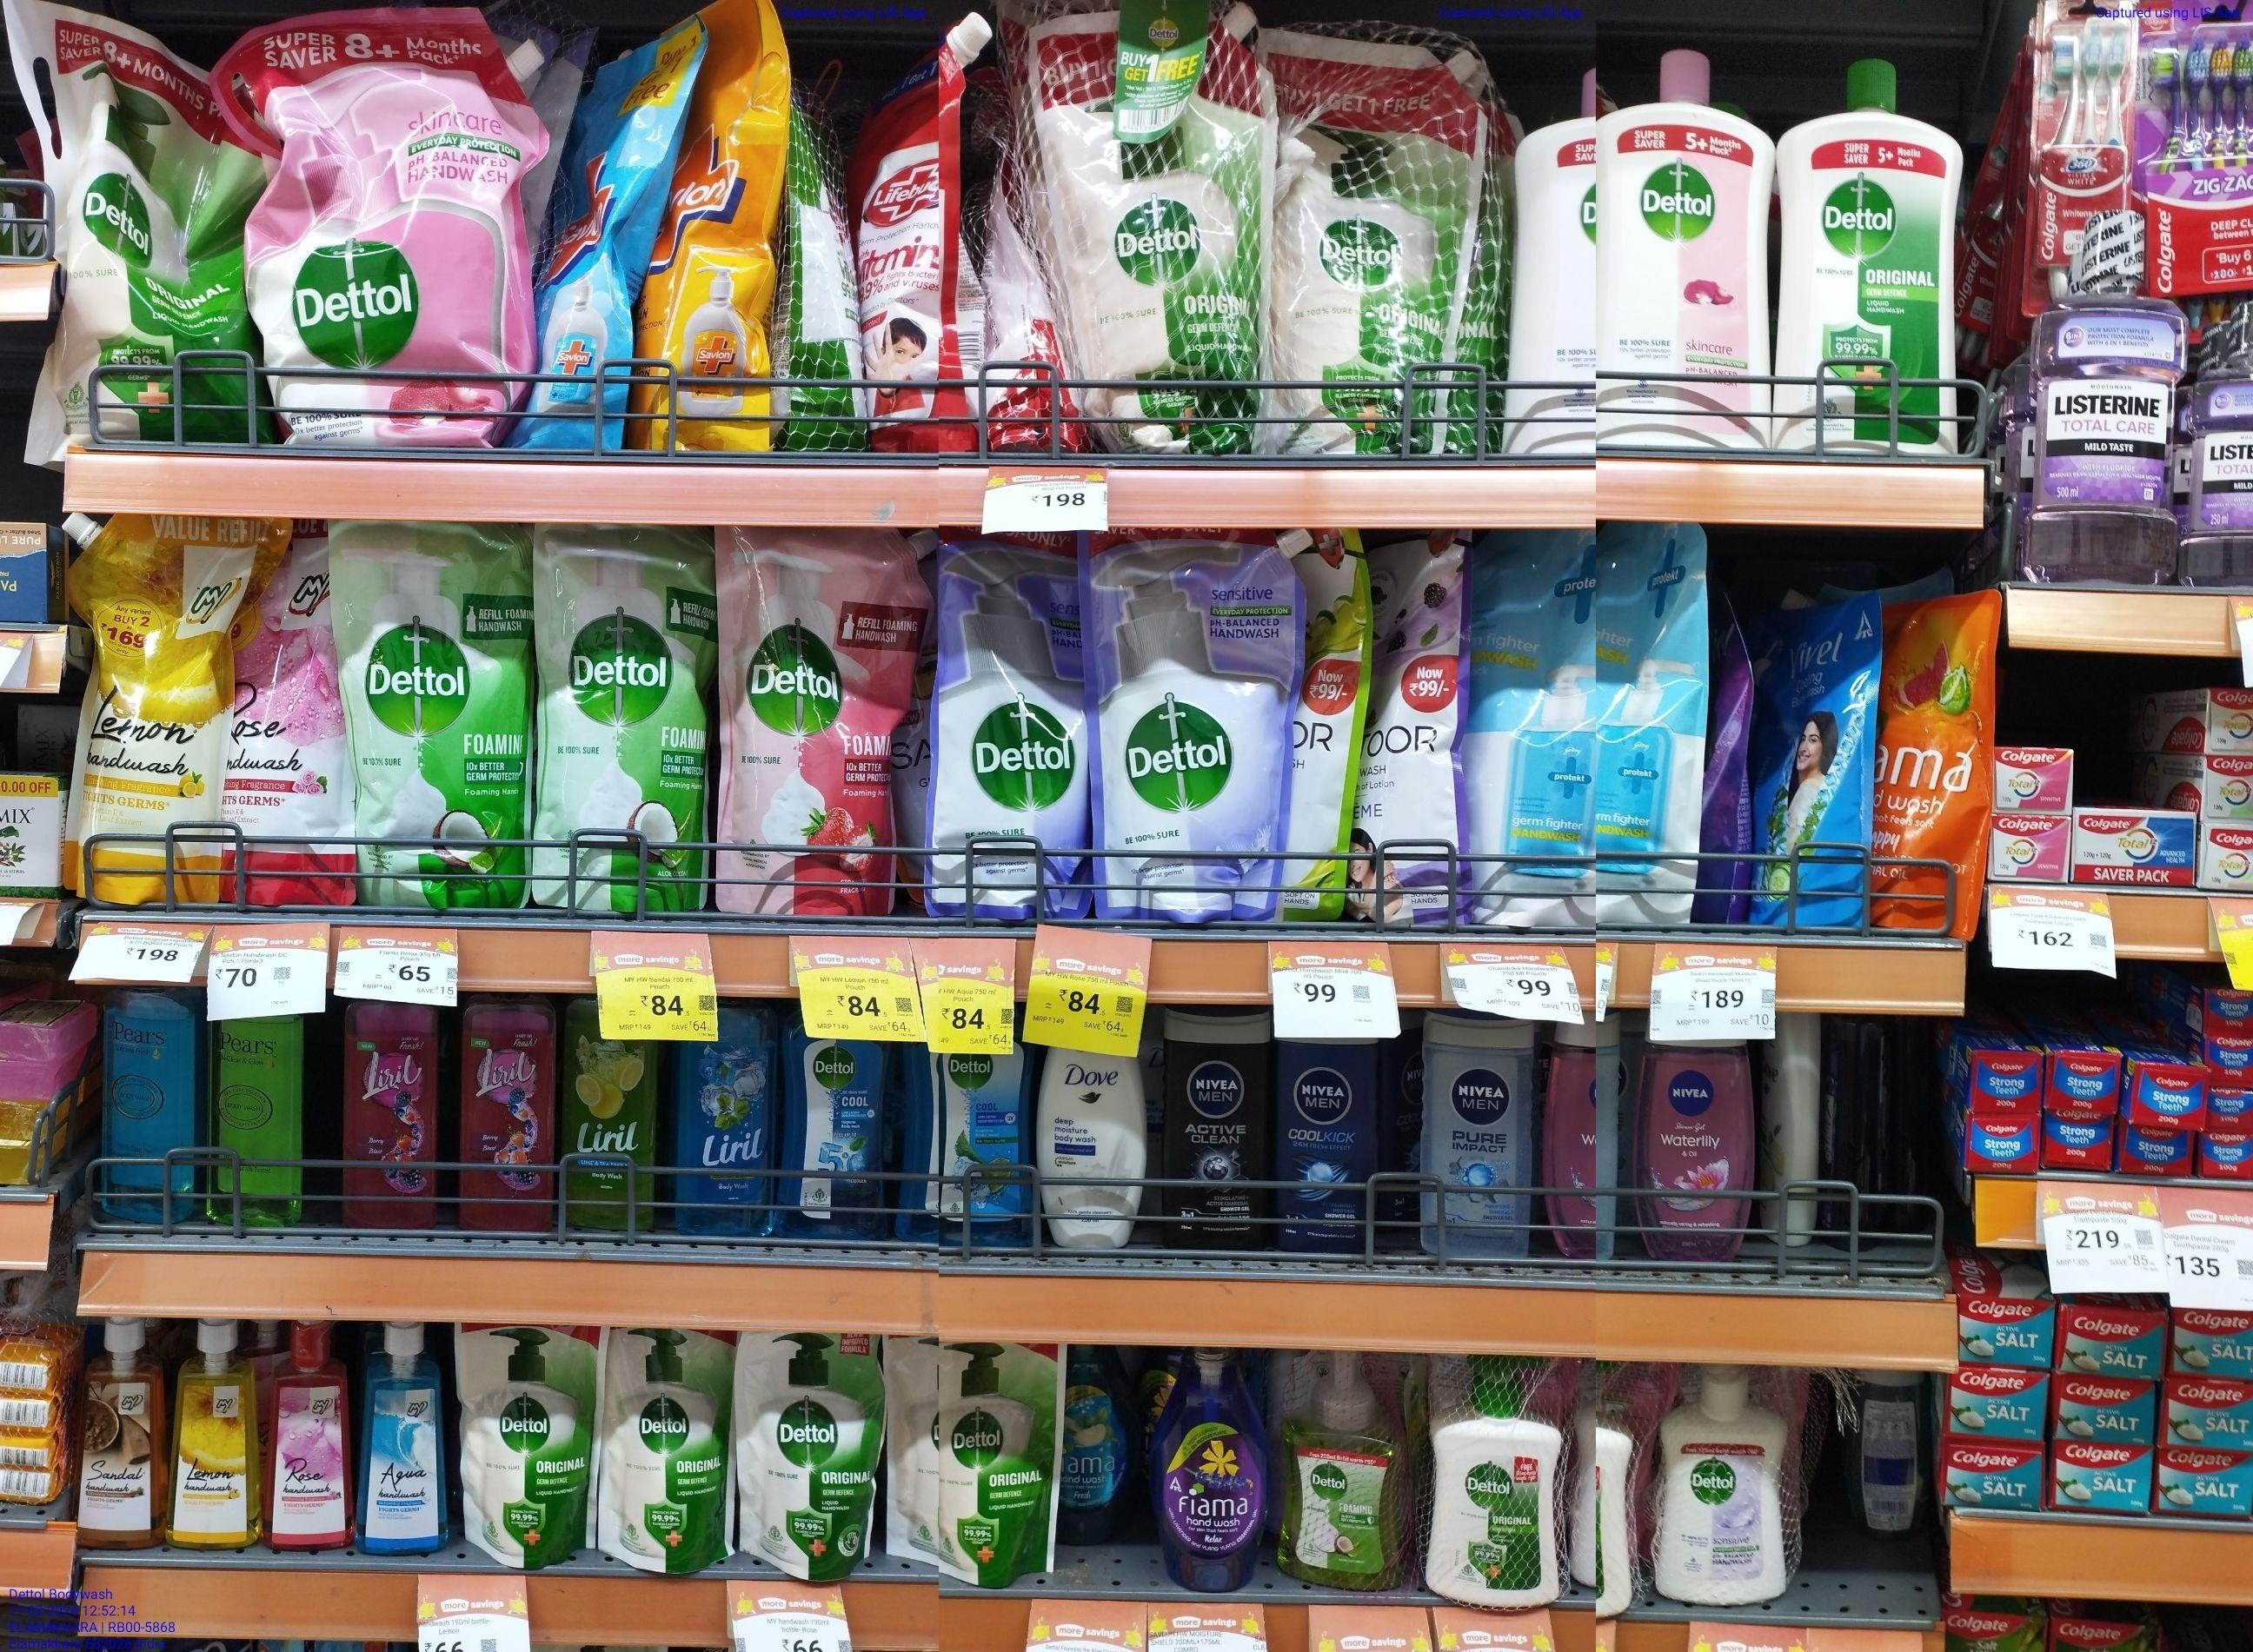Dettol_Bodywash_Cool: (785, 998, 892, 1243)
Dove_Deep_Moisture_Body_Wash_250ML: (1037, 1042, 1147, 1248)
Liril_Cooling_Mint_Body_Wash_250ML: (677, 1000, 775, 1236)
Liril_Lime_and_Tea_Tree_Oil_Body_Wash_250ML: (562, 995, 654, 1232)
Nivea_Shower_Gel_Waterlily_and_Oil_250ML: (1636, 1035, 1758, 1259)
Pears_Pure_Glycerin_and_Lemon_Flower_Extracts_Body_Wash_250ML: (219, 1019, 304, 1231)
Pears_Pure_Glycerin_and_Mint_Extracts_Body_Wash_250ML: (98, 986, 201, 1224)
